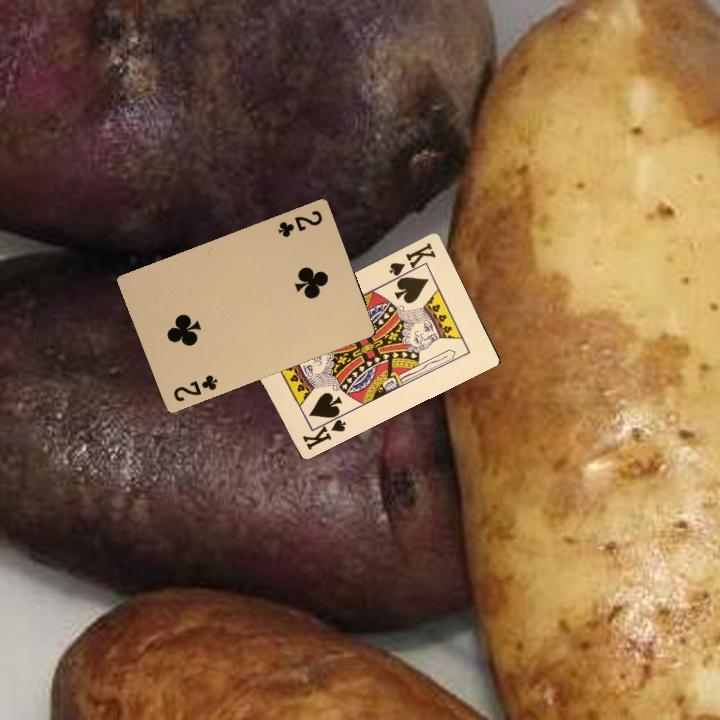2c: (274, 206, 325, 240), (169, 371, 220, 404)
Ks: (386, 238, 439, 282), (298, 410, 349, 452)
